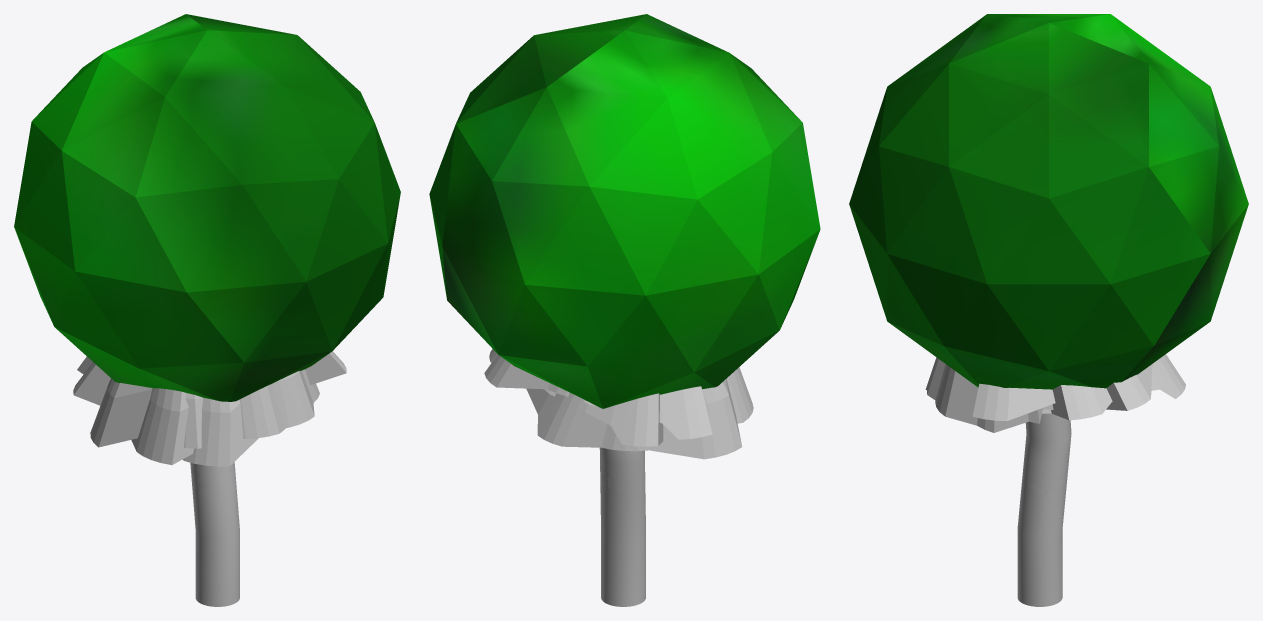
Rendered from Tree 2.fbx.
3 views of the same model, side by side, from view 1: azimuth 30°, elevation 25°; view 2: azimuth 150°, elevation 25°; view 3: azimuth 270°, elevation 25° (orthographic).
Parts seen in each view (by area): view 1: Icosphere, Cylinder, Cone.001, Cone.002, Cone; view 2: Icosphere, Cone, Cylinder, Cone.001, Cone.002; view 3: Icosphere, Cylinder, Cone.001, Cone, Cone.002.
Part boxes in pixels (box(x1,y1,x2,y2)): Icosphere: box(14, 14, 400, 401); Cylinder: box(190, 463, 239, 606); Cone.001: box(73, 362, 319, 466); Cone.002: box(77, 356, 310, 464); Cone: box(90, 351, 346, 448); Icosphere: box(429, 14, 820, 408); Cone: box(526, 379, 742, 459); Cylinder: box(599, 447, 645, 606); Cone.001: box(484, 354, 712, 439); Cone.002: box(489, 349, 753, 446); Icosphere: box(849, 14, 1248, 389); Cylinder: box(1017, 413, 1071, 606); Cone.001: box(925, 357, 1152, 432); Cone: box(972, 354, 1185, 421); Cone.002: box(927, 358, 1152, 420).
Bounding box in the file's own units: 238 × 395 × 250.
